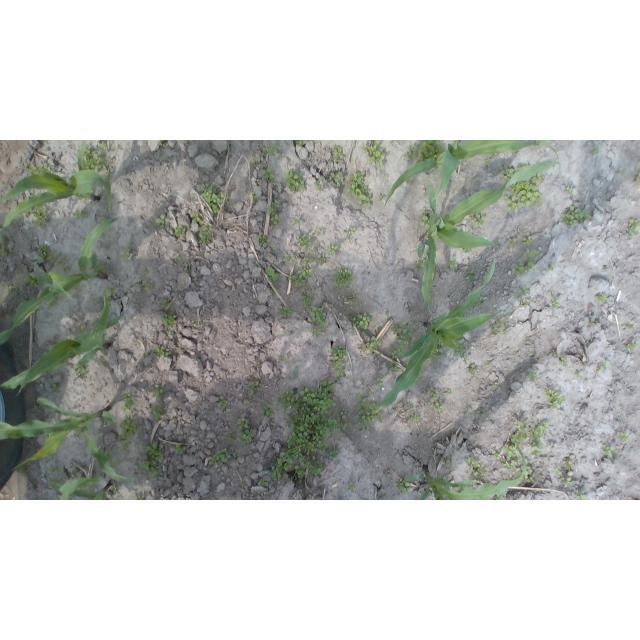Maize: (417, 159, 556, 317), (360, 259, 506, 408), (0, 216, 120, 345), (1, 289, 124, 399), (383, 140, 559, 210), (0, 397, 140, 483), (0, 140, 112, 230), (405, 446, 528, 500), (49, 476, 113, 500)
Weeds: (268, 378, 340, 483), (505, 182, 544, 212), (353, 398, 384, 432), (347, 172, 372, 209), (201, 183, 229, 214), (141, 443, 164, 477), (407, 141, 444, 162), (423, 387, 452, 413), (83, 146, 111, 172), (561, 206, 591, 228), (119, 414, 137, 450), (363, 140, 386, 168), (503, 435, 520, 470), (391, 321, 413, 348), (283, 169, 307, 192), (529, 422, 551, 447), (237, 418, 256, 446), (466, 458, 489, 481), (544, 386, 566, 410), (287, 266, 313, 286), (208, 448, 231, 469), (517, 459, 536, 484), (333, 269, 355, 290), (390, 345, 406, 373), (329, 346, 348, 369), (351, 313, 372, 331), (455, 339, 470, 364), (490, 318, 509, 337), (362, 337, 383, 354), (24, 162, 53, 174), (512, 262, 535, 277), (24, 269, 43, 287), (310, 306, 327, 326), (37, 244, 54, 264), (33, 205, 47, 227), (395, 478, 413, 495), (198, 226, 212, 247), (54, 254, 70, 272), (268, 206, 281, 226), (627, 219, 640, 239), (162, 312, 178, 328), (342, 408, 353, 431), (277, 305, 295, 319), (434, 340, 446, 361), (122, 393, 136, 411), (124, 244, 138, 262), (515, 421, 527, 442), (267, 265, 280, 284), (419, 207, 430, 229), (296, 235, 312, 250), (75, 363, 89, 379), (152, 384, 164, 402), (155, 215, 170, 229), (155, 346, 171, 359), (261, 145, 278, 157), (333, 145, 344, 163), (247, 382, 260, 397), (329, 171, 341, 187), (446, 257, 458, 273), (464, 269, 476, 285), (325, 242, 339, 255), (473, 214, 487, 227), (624, 337, 637, 351), (151, 406, 164, 420), (190, 212, 204, 225), (596, 360, 611, 372), (602, 445, 614, 460), (174, 226, 190, 237), (525, 248, 538, 261), (258, 233, 270, 247), (500, 167, 514, 179), (261, 403, 272, 418), (314, 176, 324, 192), (317, 254, 330, 266), (175, 444, 188, 456), (345, 227, 356, 241), (5, 285, 20, 295), (98, 143, 116, 151), (561, 476, 573, 488), (302, 293, 313, 306), (262, 170, 275, 181), (596, 293, 609, 304), (217, 396, 228, 409), (531, 447, 544, 458), (142, 281, 154, 292), (285, 253, 296, 265), (414, 261, 426, 272), (336, 369, 347, 381), (72, 209, 85, 219), (409, 413, 420, 424), (619, 431, 630, 442), (312, 326, 322, 338), (291, 216, 303, 226), (532, 173, 544, 183), (551, 298, 561, 310), (518, 288, 531, 297), (49, 466, 63, 474), (529, 373, 540, 383), (469, 365, 479, 376), (373, 377, 384, 387), (258, 478, 269, 488), (441, 459, 451, 470), (521, 297, 531, 307), (111, 487, 121, 497), (577, 490, 587, 500), (590, 146, 601, 155), (346, 483, 357, 492), (158, 140, 170, 148), (251, 192, 258, 205), (522, 237, 532, 246), (564, 186, 574, 195), (560, 357, 569, 367), (363, 389, 373, 398), (492, 451, 501, 461), (509, 238, 517, 249), (343, 296, 355, 303), (228, 430, 235, 442), (162, 300, 171, 309), (566, 462, 575, 471), (302, 258, 312, 266), (385, 311, 393, 321), (141, 268, 150, 276), (108, 286, 116, 295), (51, 384, 60, 392), (475, 409, 485, 416), (294, 366, 299, 379), (626, 324, 634, 332), (555, 468, 563, 476), (536, 141, 545, 148), (135, 494, 145, 500), (497, 494, 507, 500), (294, 141, 306, 146), (98, 265, 108, 271), (484, 159, 492, 166), (548, 265, 556, 272), (574, 371, 582, 378), (589, 318, 595, 327), (251, 161, 260, 167), (315, 230, 325, 235), (463, 248, 473, 253), (174, 255, 181, 262), (531, 353, 538, 360), (192, 320, 200, 326), (636, 172, 640, 184), (516, 166, 527, 170), (183, 263, 189, 270), (551, 350, 558, 356), (247, 401, 254, 407), (492, 382, 498, 389), (479, 298, 485, 305), (194, 277, 199, 285), (406, 404, 414, 409), (379, 197, 385, 202), (487, 362, 493, 367), (466, 408, 472, 413), (361, 380, 366, 386), (270, 290, 275, 295), (275, 200, 279, 206), (40, 141, 48, 144), (380, 497, 387, 500), (101, 218, 106, 222), (384, 471, 388, 476), (345, 309, 349, 312)
